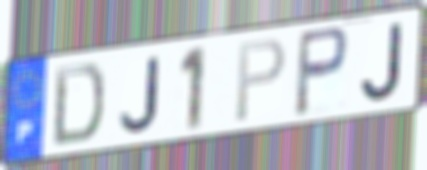1: (178, 42, 208, 133)
D: (50, 61, 107, 149)
J: (359, 20, 405, 104), (117, 54, 161, 136)
P: (292, 23, 351, 119), (233, 35, 288, 126)
